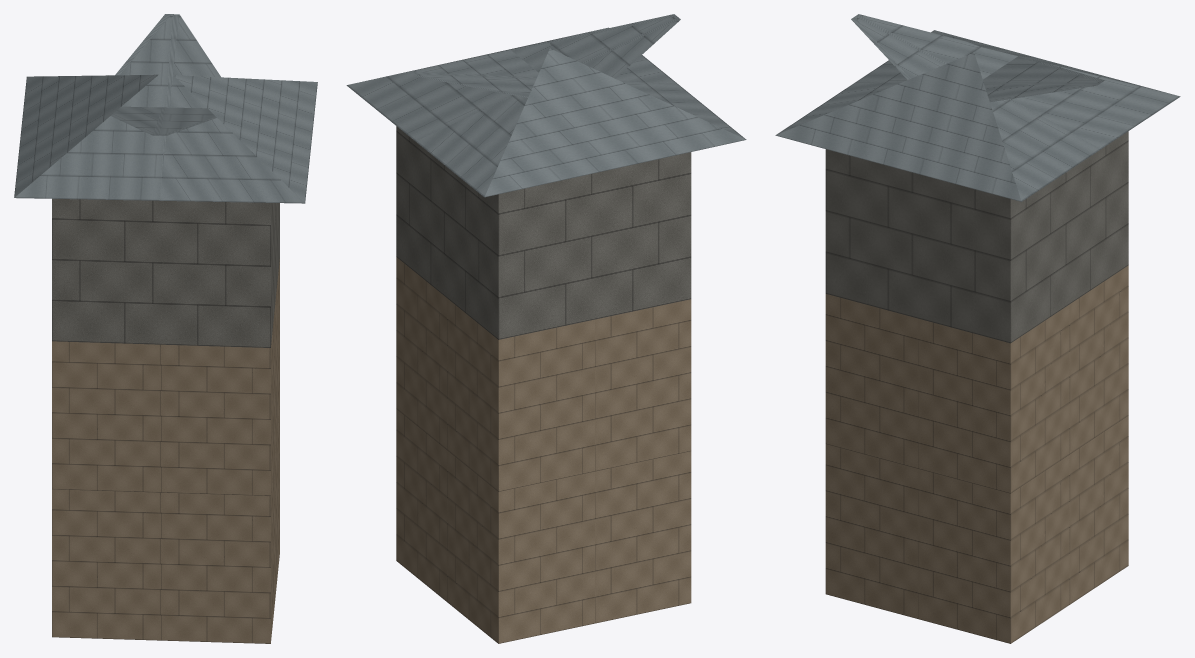
File: bld_c-1_-2_540.gltf
The picture shows the model from 3 angles, left to right: view 1: azimuth 30°, elevation 25°; view 2: azimuth 150°, elevation 25°; view 3: azimuth 270°, elevation 25°; orthographic projection. The views are drawn at different scales.
Parts seen in each view (by area): view 1: bld_c-1_-2_540; view 2: bld_c-1_-2_540; view 3: bld_c-1_-2_540.
Part boxes in pixels (x1,y1,x2,y2): bld_c-1_-2_540: (14, 14, 317, 643); bld_c-1_-2_540: (346, 14, 746, 643); bld_c-1_-2_540: (775, 14, 1180, 643).
Bounding box in the file's own units: 5.57 × 8 × 5.55.
3 materials, 3 textured.
